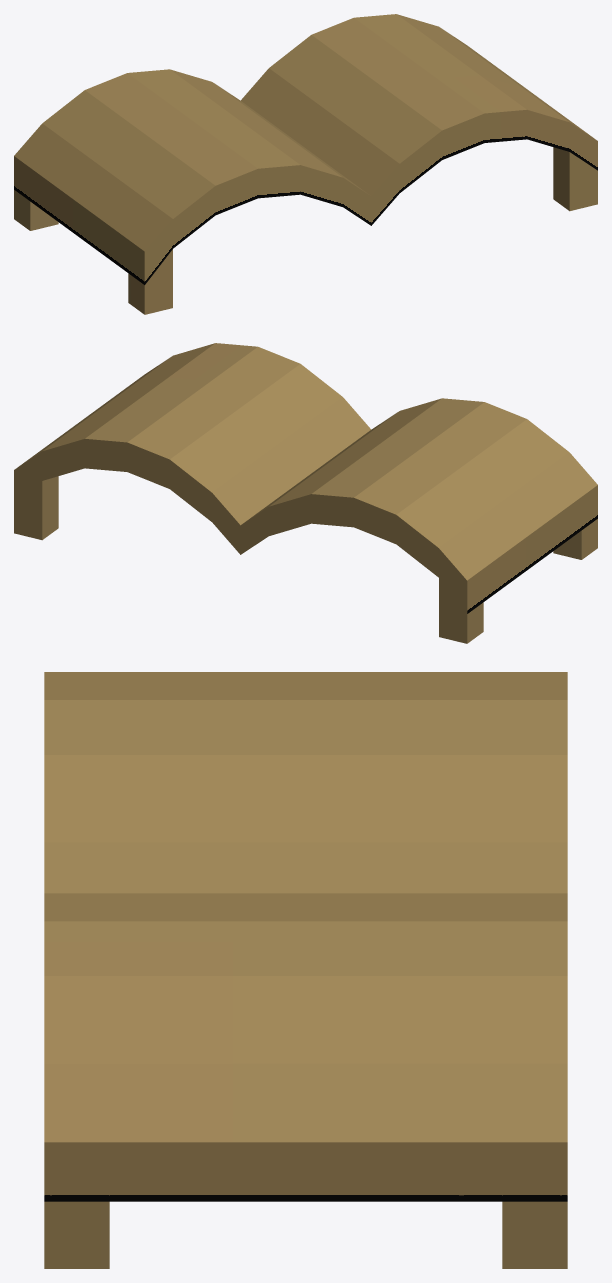
The model's file is Arch-2x1.obj.
3 views of the same model, one above another, from view 1: azimuth 30°, elevation 25°; view 2: azimuth 150°, elevation 25°; view 3: azimuth 270°, elevation 25° (orthographic). The views are drawn at different scales.
Parts seen in each view (by area): view 1: pCube16; view 2: pCube16; view 3: pCube16.
Part boxes in pixels (x1,y1,x2,y2): pCube16: (14,14,597,314); pCube16: (14,343,597,643); pCube16: (44,672,567,1268).
Bounding box in the file's own units: 16 × 4 × 8.
